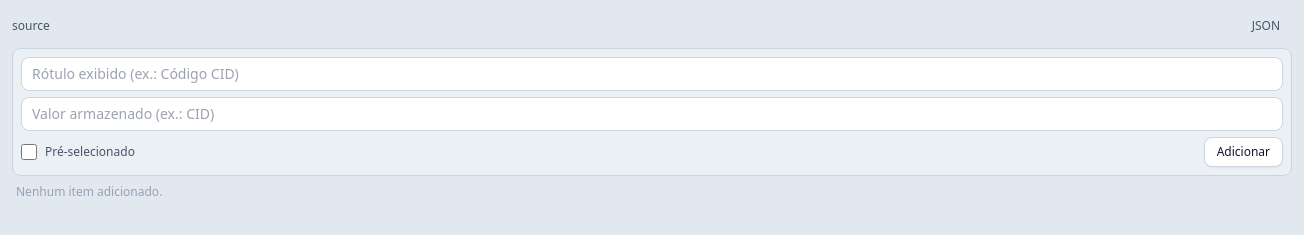
SourceEditor › não adiciona e mostra erro quando o rótulo está vazio
The width and height of the screenshot is (1304, 235).
Click the button "Adicionar" at (1243, 152), box 1204,137 -> 1283,167
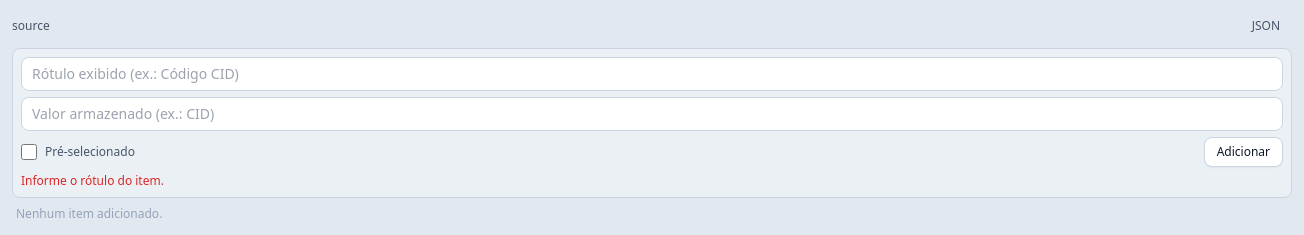
Expected: the text "Informe o rótulo do item." is shown, 21,172 -> 164,189
